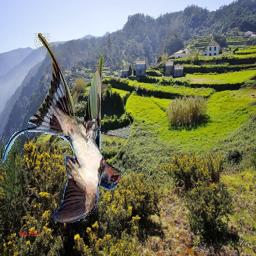Swallow: (3, 33, 122, 224)
